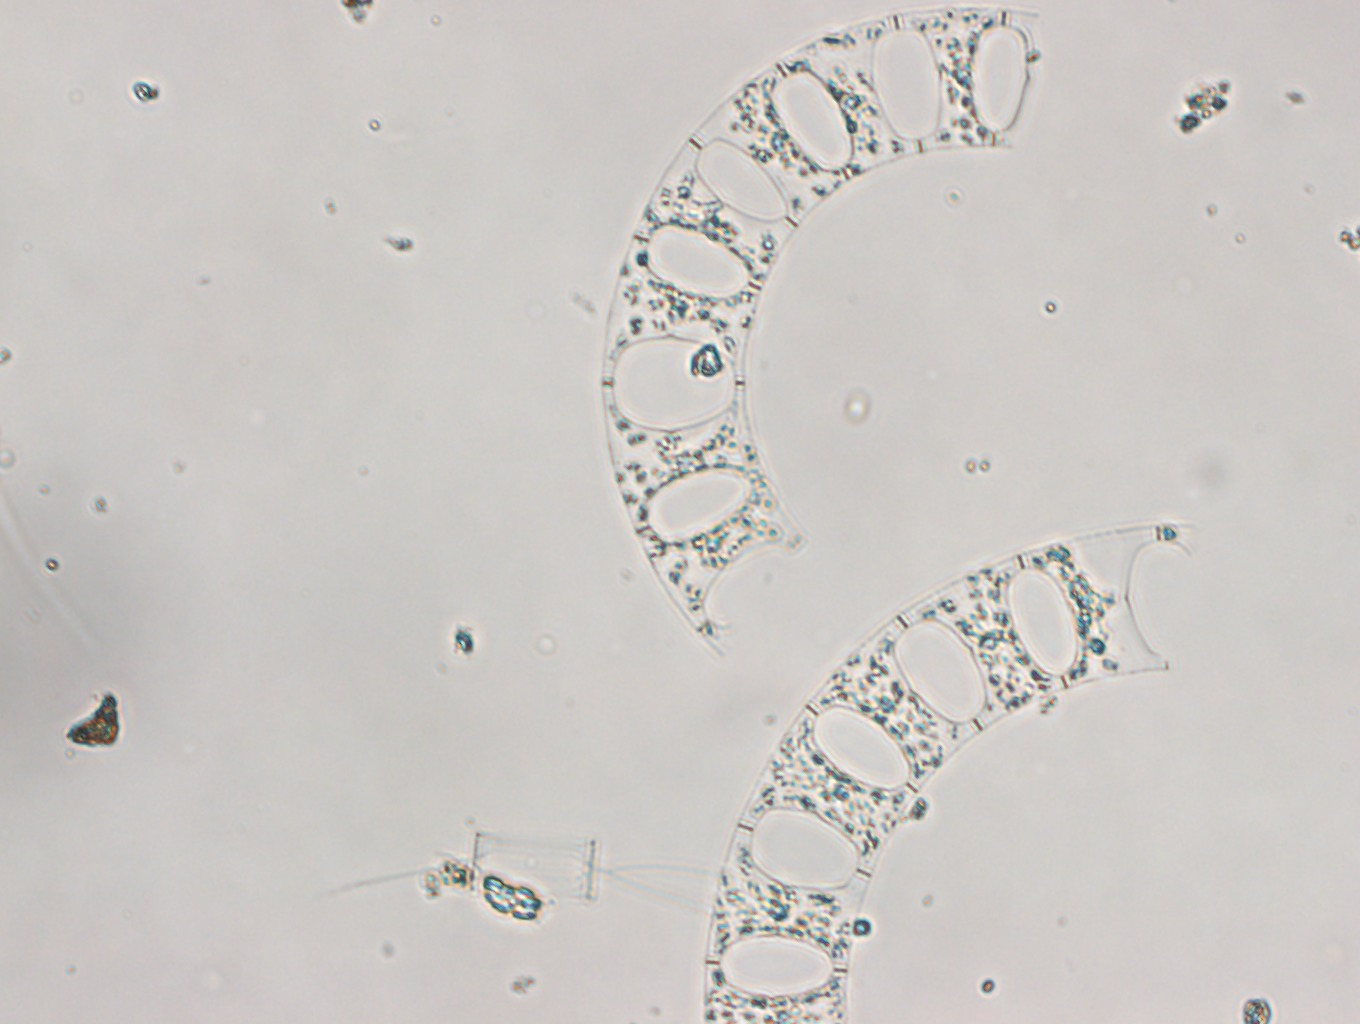chaetoceros: (323, 830, 710, 921)
eucampia: (600, 4, 1045, 659), (704, 522, 1200, 1024)
